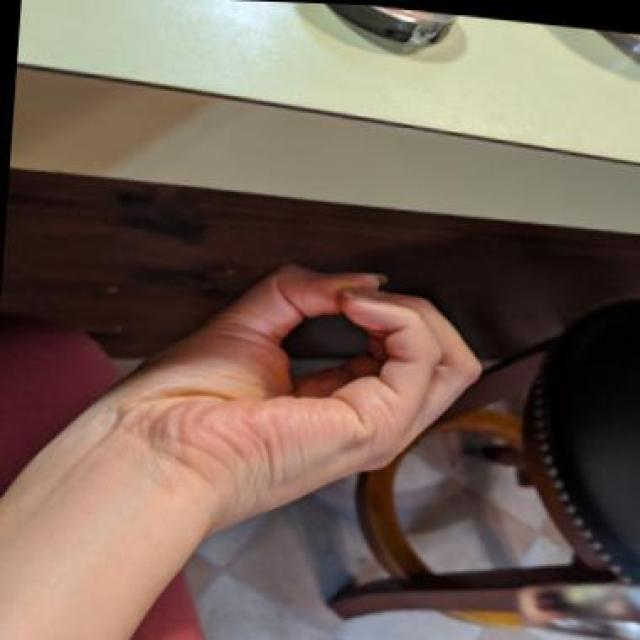O: (97, 253, 501, 567)
